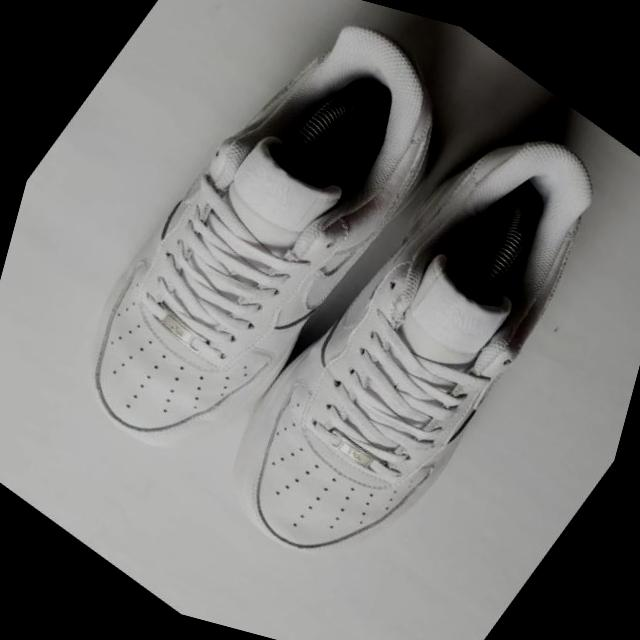nike_fake_airforce: (182, 30, 640, 640), (30, 0, 506, 533)
